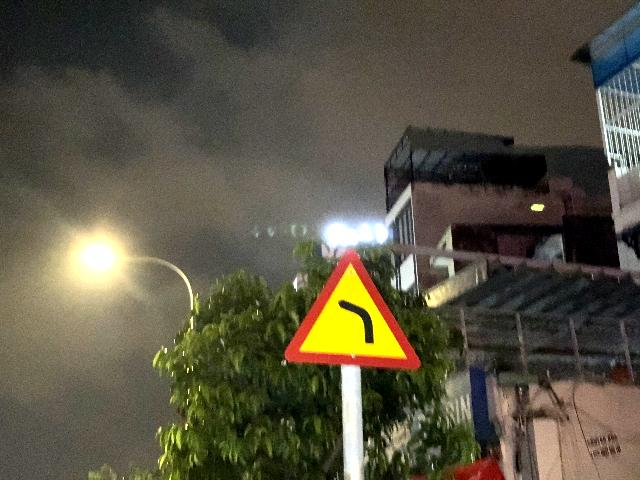cho-ngoat-nguy-hiem-ben-trai: (284, 249, 420, 370)
